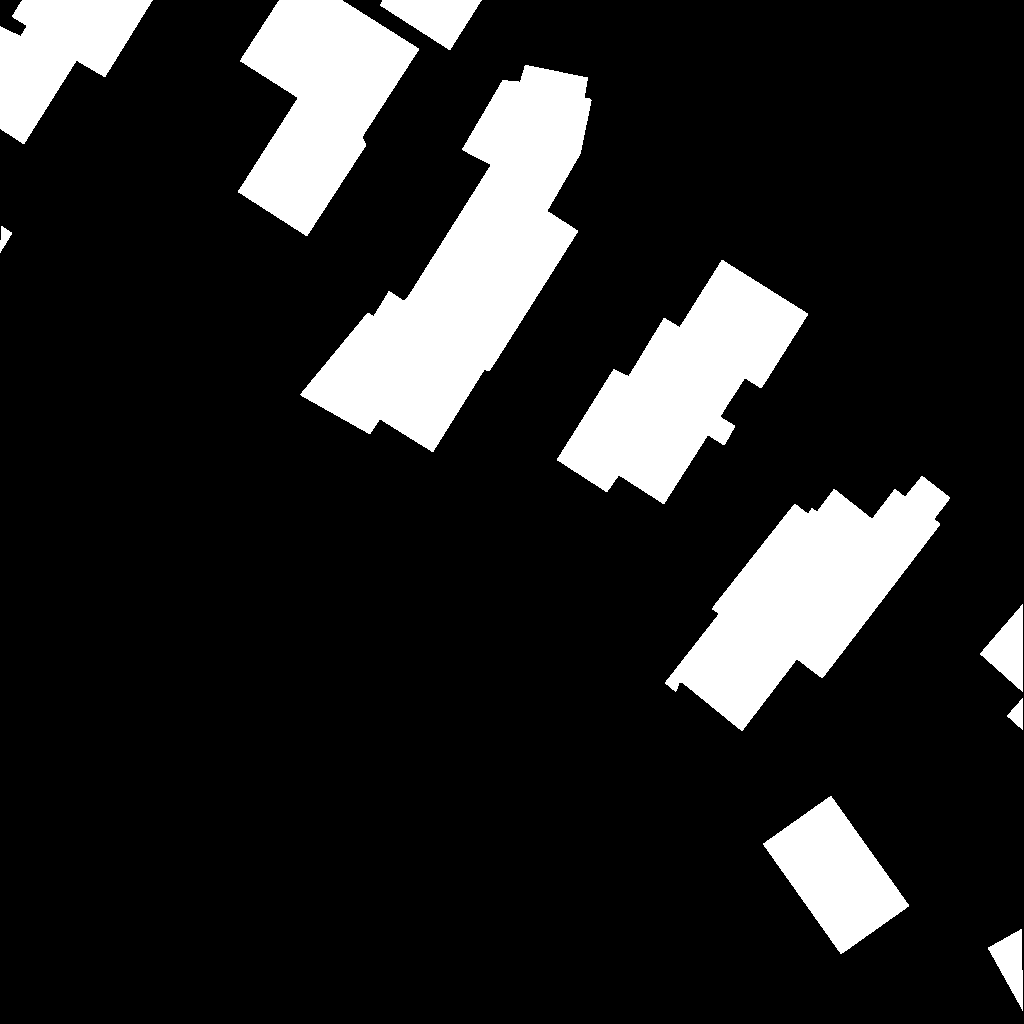building: (300, 65, 592, 453), (665, 476, 951, 732), (557, 260, 809, 505), (238, 0, 420, 237), (763, 796, 910, 955), (0, 0, 154, 145), (980, 604, 1024, 731), (380, 0, 483, 51), (988, 929, 1024, 1012), (0, 226, 13, 254)
